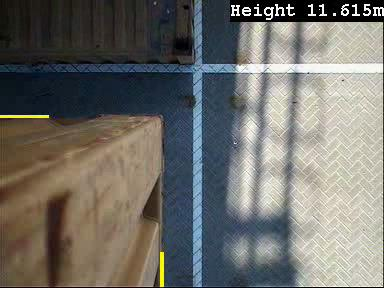groundmarker_2: (171, 51, 249, 98)
